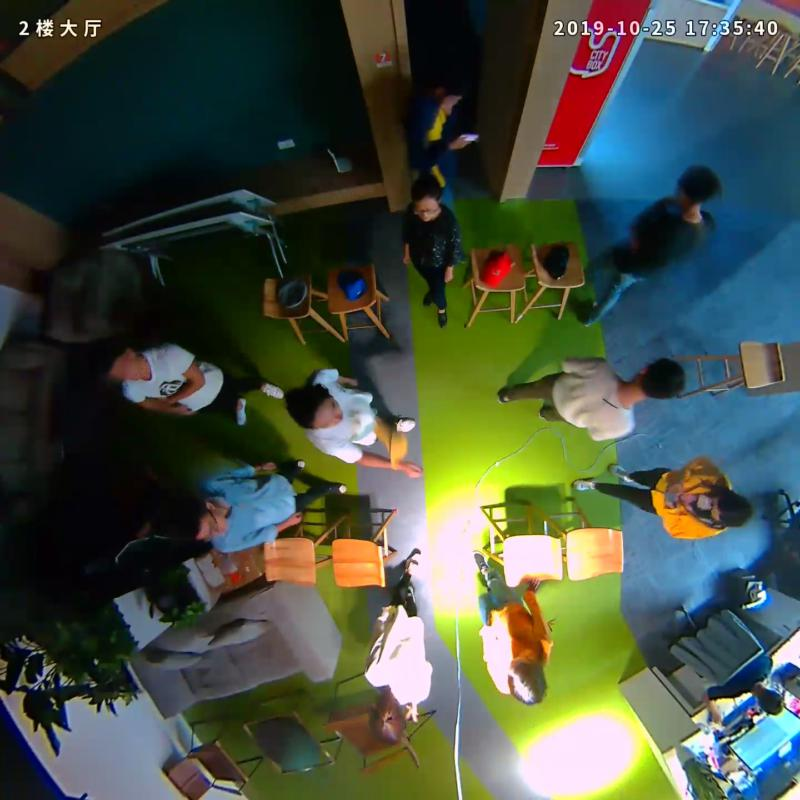head: (284, 384, 346, 429), (176, 496, 231, 541), (675, 164, 723, 213), (634, 358, 686, 401), (95, 341, 145, 382), (509, 659, 549, 707), (370, 696, 408, 745), (708, 489, 752, 527), (413, 178, 444, 220), (436, 73, 467, 112)
